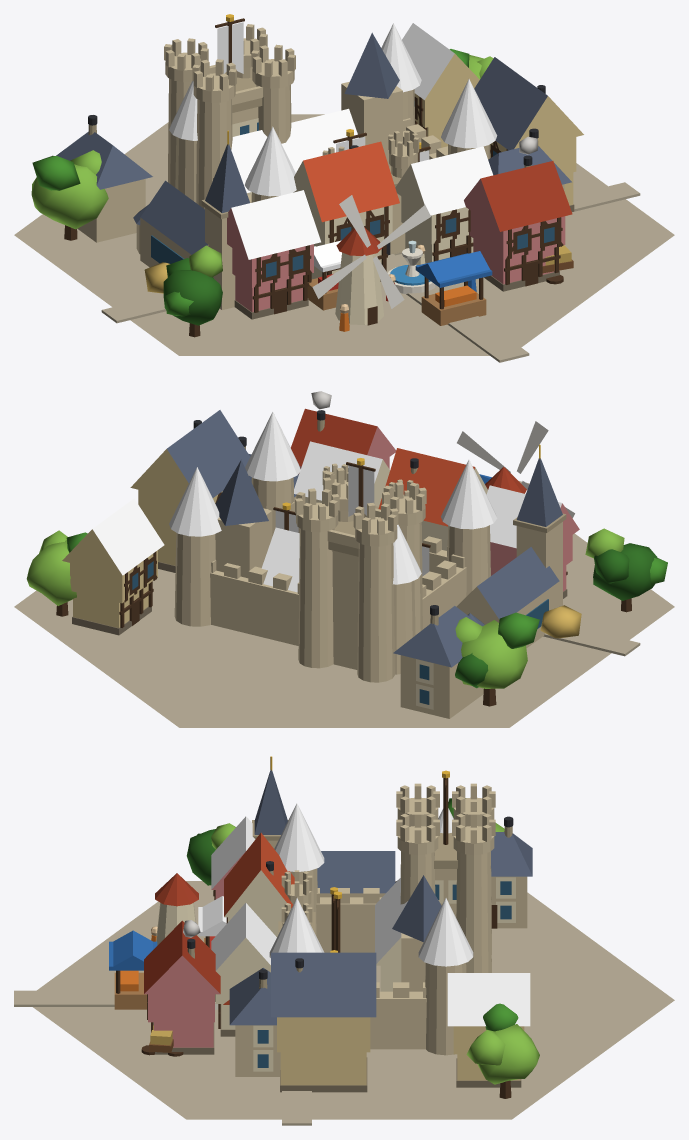
File: capital_1_4.fbx
The picture shows the model from 3 angles, top to bottom: view 1: azimuth 30°, elevation 25°; view 2: azimuth 150°, elevation 25°; view 3: azimuth 270°, elevation 25°; orthographic projection.
Parts seen in each view (by area): view 1: capital_1_4; view 2: capital_1_4; view 3: capital_1_4.
Boxes of the visible parts, x1,y1,x2,y2 form: capital_1_4: (14, 14, 674, 362); capital_1_4: (14, 391, 674, 727); capital_1_4: (14, 756, 674, 1125).
Size of the model in its own units: 192 by 69.8 by 213.
